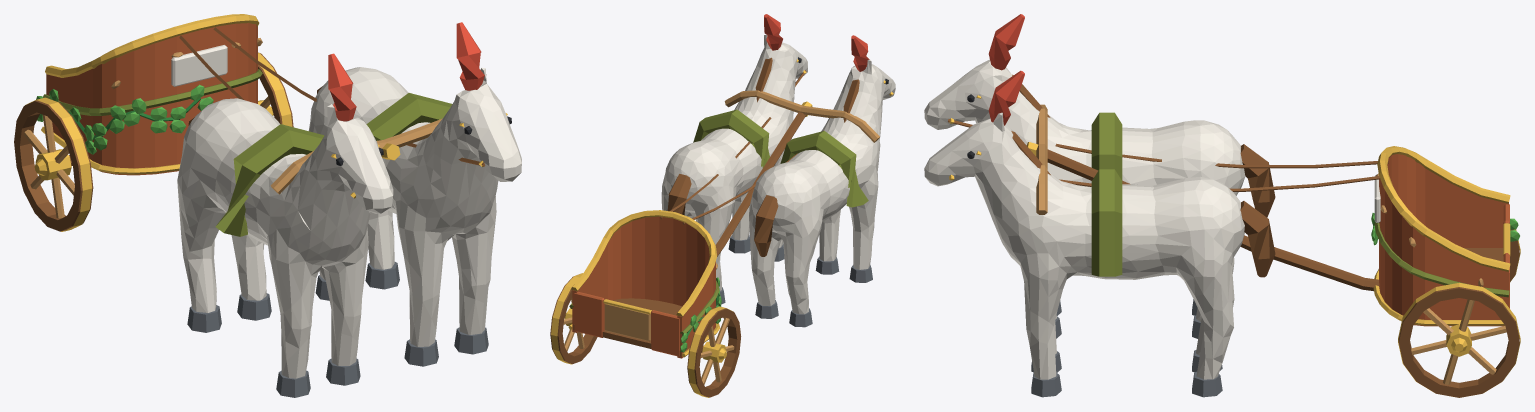
File: classical-racing-chariot.glb
3 renders of one model, left to right at view 1: azimuth 30°, elevation 25°; view 2: azimuth 150°, elevation 25°; view 3: azimuth 270°, elevation 25°, orthographic. The views are drawn at different scales.
Parts seen in each view (by area): view 1: Horse_L, Horse_R, Breastwork, Wheel_L, Blanket_L, Rim_Gold, Blanket_R, Plaque_Blank, Band_Olive, Plume_R, Wheel_R, Plume_L (+10 smaller); view 2: Horse_L, Horse_R, Breastwork, Wheel_L, Blanket_L, Rim_Gold, Wheel_R, Blanket_R, Yoke, Door, RearStub_R, HarnessPole (+14 smaller); view 3: Horse_R, Breastwork, Horse_L, Wheel_R, Blanket_R, Rim_Gold, HarnessPole, Blanket_L, Tail_R, Tail_L, Yoke, Plume_L (+7 smaller).
Part boxes in pixels (x1,y1,x2,y2): Horse_L: [177, 98, 393, 378]; Horse_R: [308, 67, 521, 346]; Breastwork: [46, 23, 257, 175]; Wheel_L: [14, 97, 93, 231]; Blanket_L: [215, 124, 324, 236]; Rim_Gold: [45, 14, 259, 77]; Blanket_R: [366, 93, 452, 140]; Plaque_Blank: [171, 45, 227, 86]; Band_Olive: [43, 69, 262, 115]; Plume_R: [456, 22, 484, 90]; Wheel_R: [258, 52, 293, 127]; Plume_L: [328, 53, 356, 121]; Horse_L: [749, 59, 895, 314]; Horse_R: [661, 35, 807, 290]; Breastwork: [572, 216, 715, 358]; Wheel_L: [687, 306, 741, 397]; Blanket_L: [780, 131, 868, 207]; Rim_Gold: [571, 210, 716, 317]; Wheel_R: [550, 273, 597, 364]; Blanket_R: [693, 109, 769, 168]; Yoke: [724, 90, 879, 142]; Door: [604, 303, 650, 341]; RearStub_R: [574, 291, 604, 337]; HarnessPole: [715, 112, 805, 256]; Horse_R: [924, 112, 1244, 379]; Breastwork: [1379, 154, 1508, 326]; Horse_L: [924, 59, 1245, 321]; Wheel_R: [1398, 282, 1520, 397]; Blanket_R: [1091, 169, 1122, 276]; Rim_Gold: [1377, 146, 1510, 271]; HarnessPole: [1047, 149, 1379, 291]; Blanket_L: [1091, 112, 1122, 180]; Tail_R: [1240, 201, 1275, 277]; Tail_L: [1240, 144, 1275, 217]; Yoke: [1036, 104, 1047, 214]; Plume_L: [988, 14, 1024, 70].
Bounding box in the file's own units: 7.07 × 8.89 × 15.57.
